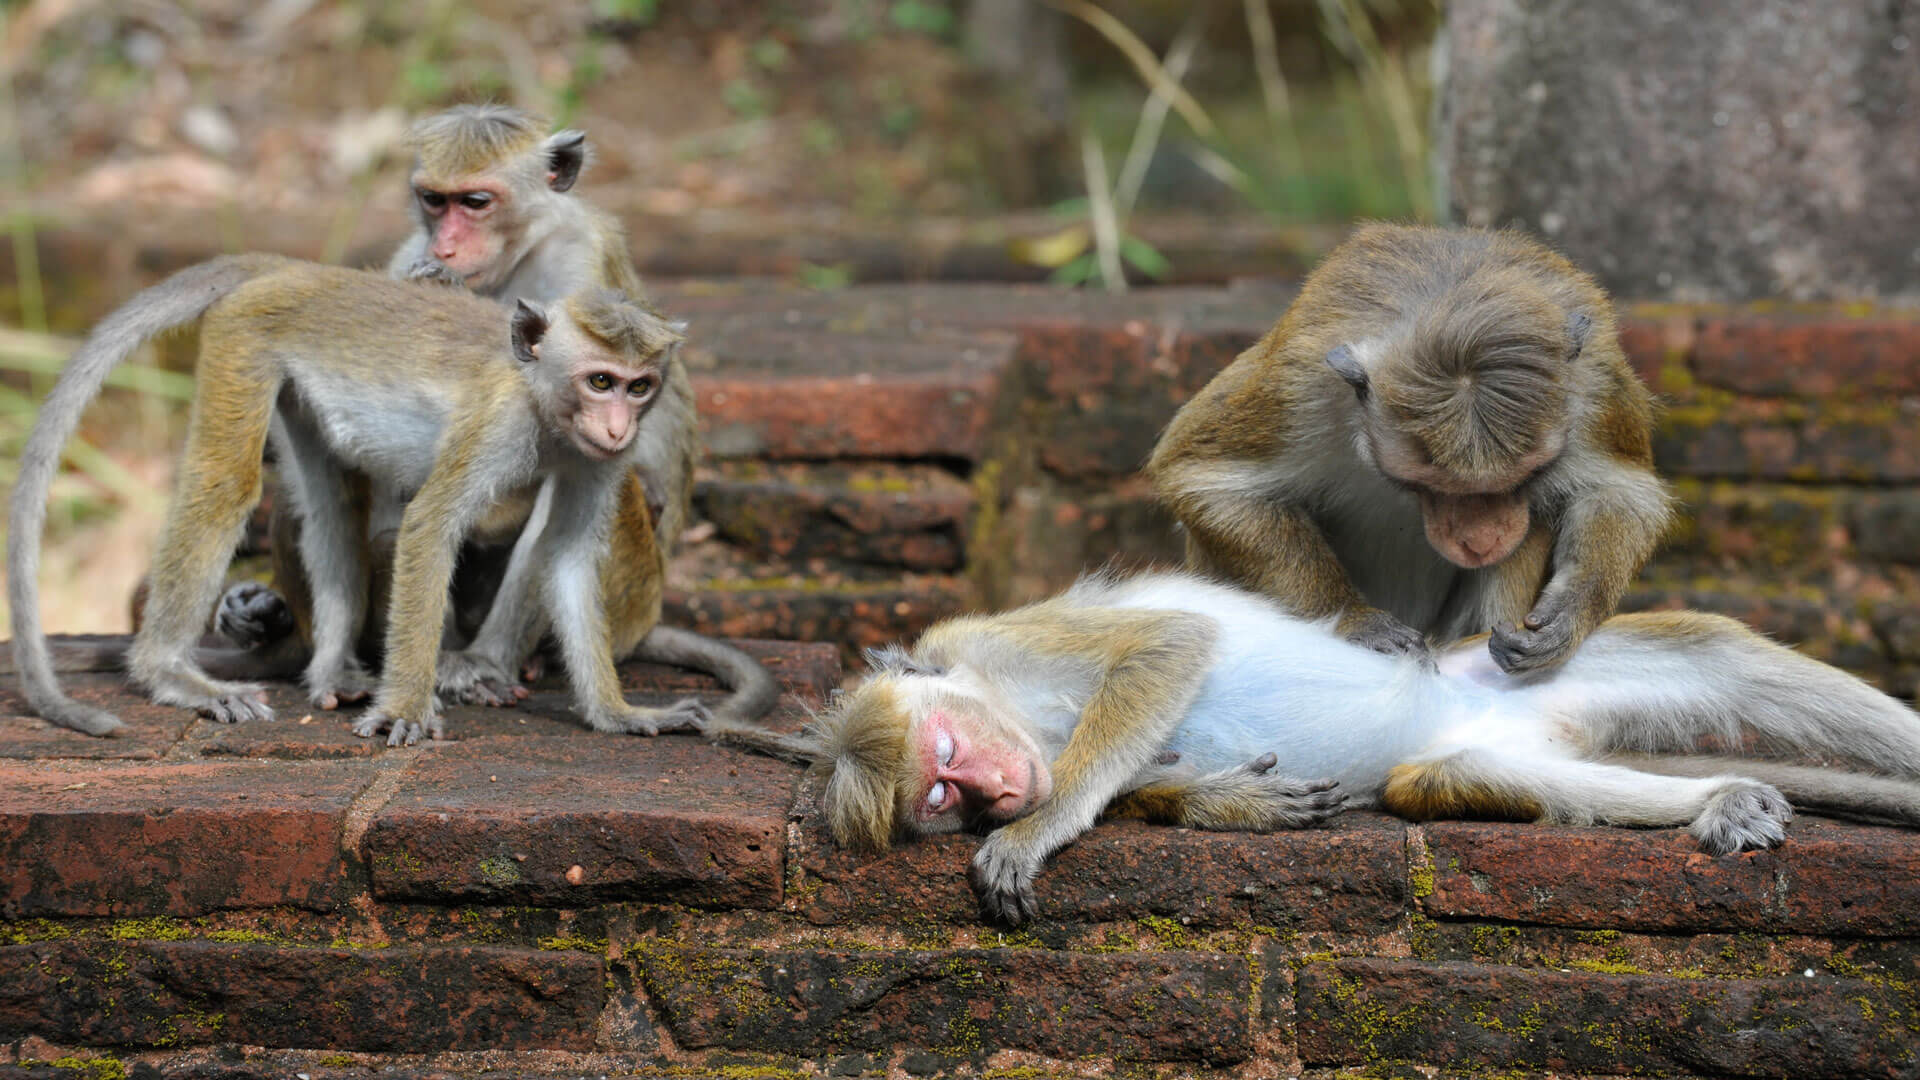Monkey: (111, 266, 679, 746)
